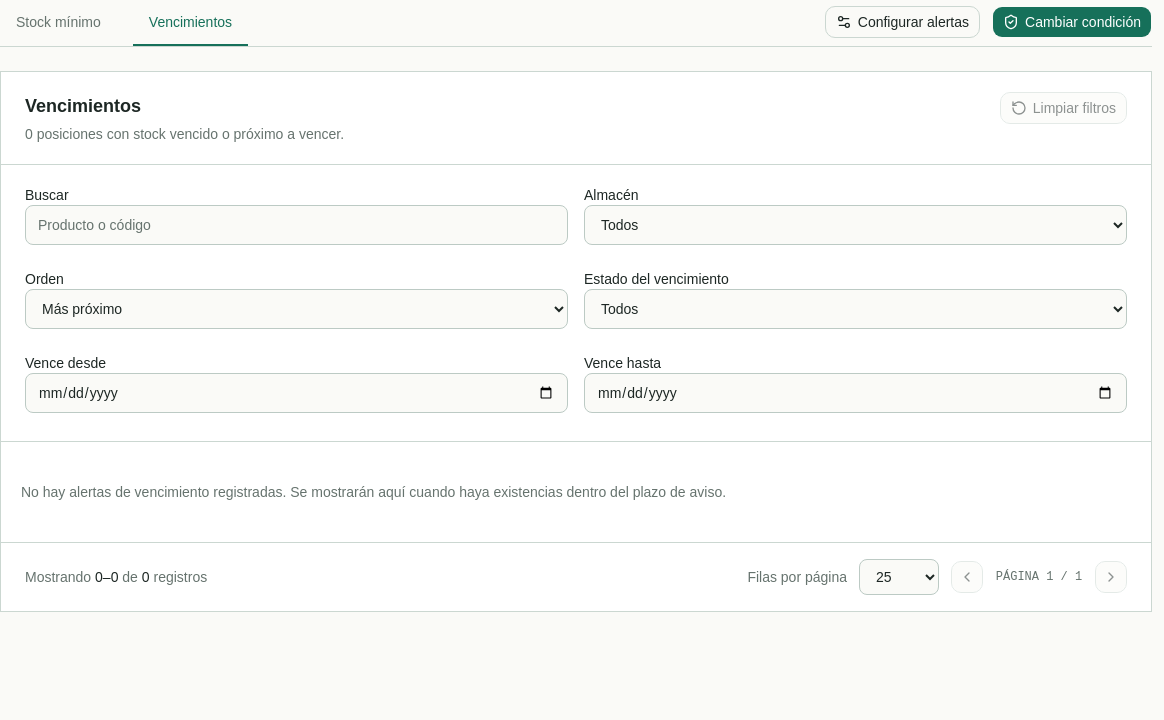
Test: PanelControlStock › restaura búsqueda, almacén, orden, fechas, paginación y estado de vencimiento
Type "paracetamol" into the search field labelled "Buscar".
click(296, 225); type("paracetamol")  # box [25,205,568,245]
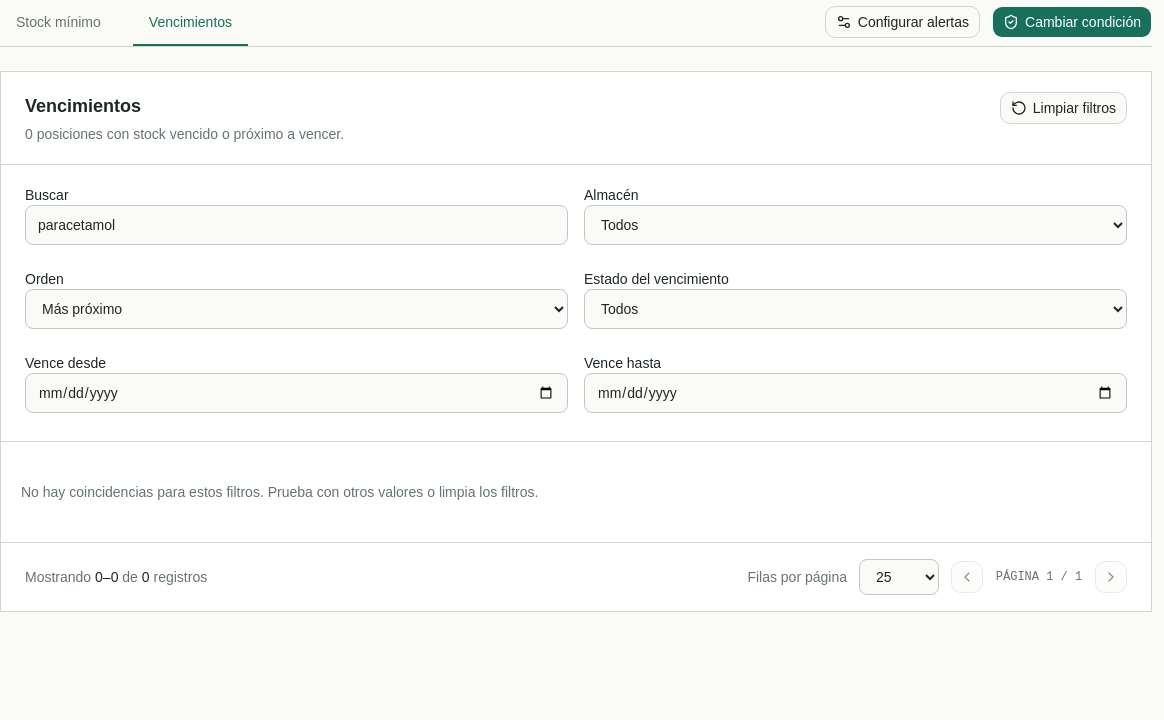
Select "Central" in the dropdown labelled "Almacén" at (856, 225), box [584,205,1127,245]
Select "Más lejano" in the dropdown labelled "Orden" at (296, 309), box [25,289,568,329]
Select "Vencido" in the dropdown labelled "Estado del vencimiento" at (856, 309), box [584,289,1127,329]
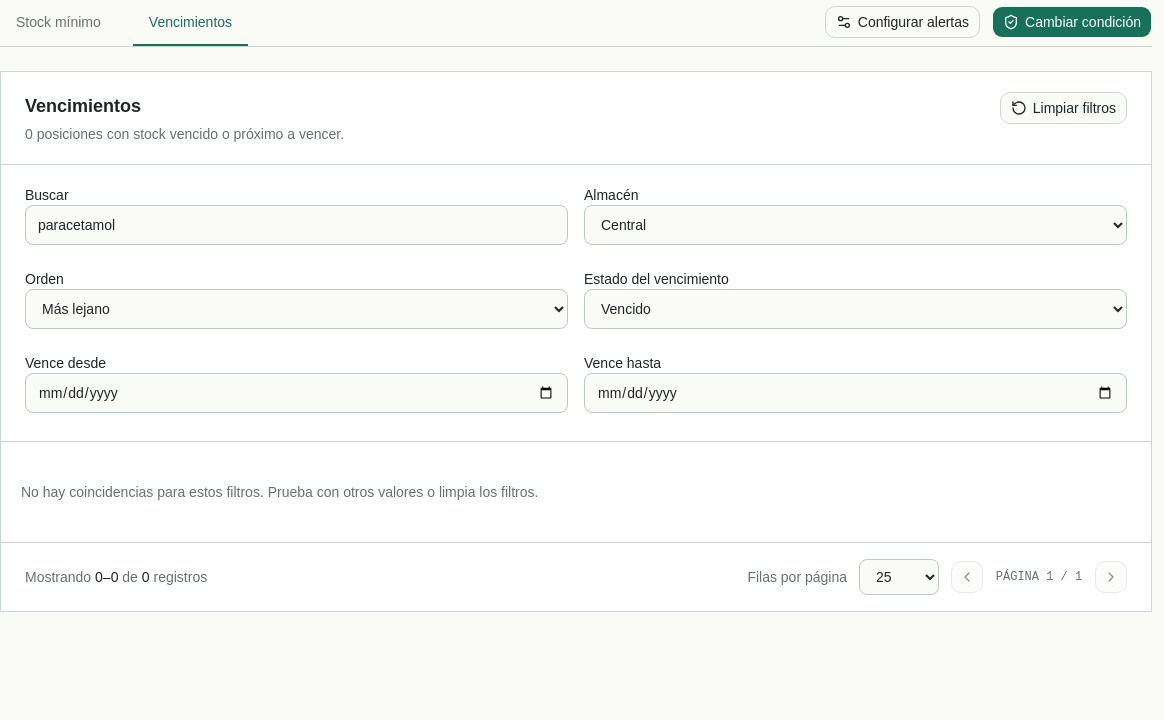
Type "2026-10-01" into the date field labelled "Vence desde".
click(296, 393); type("2026-10-01")  # box [25,373,568,413]
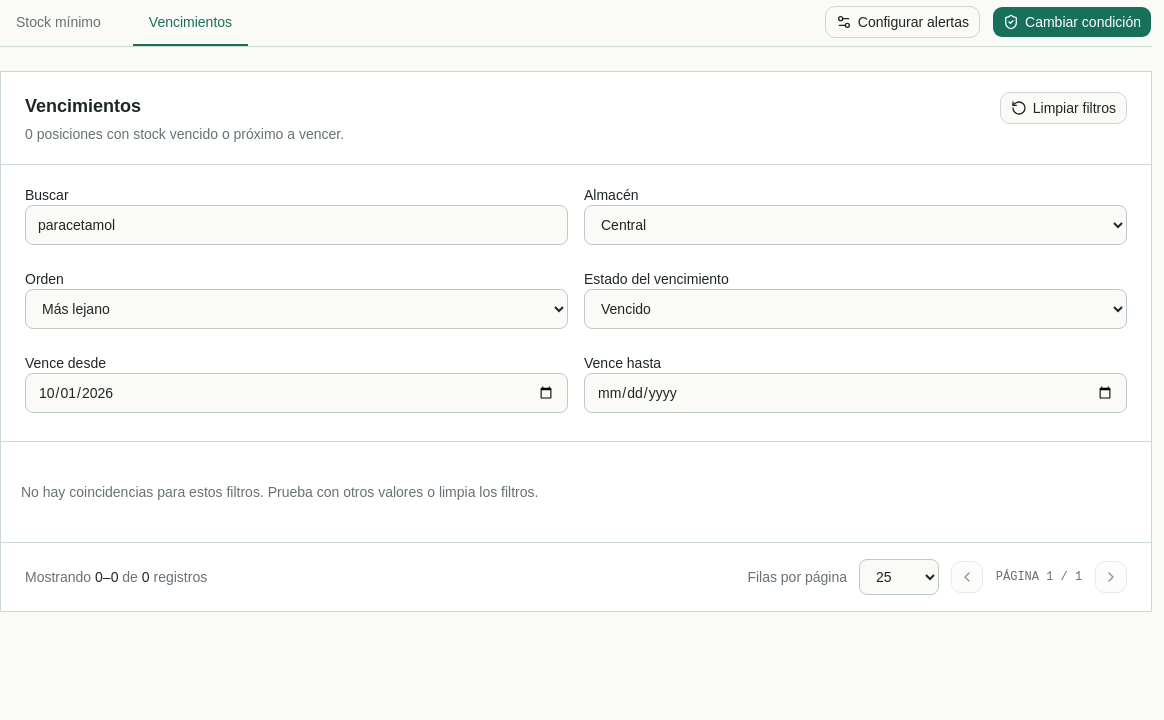
Type "2026-10-31" into the date field labelled "Vence hasta".
click(856, 393); type("2026-10-31")  # box [584,373,1127,413]
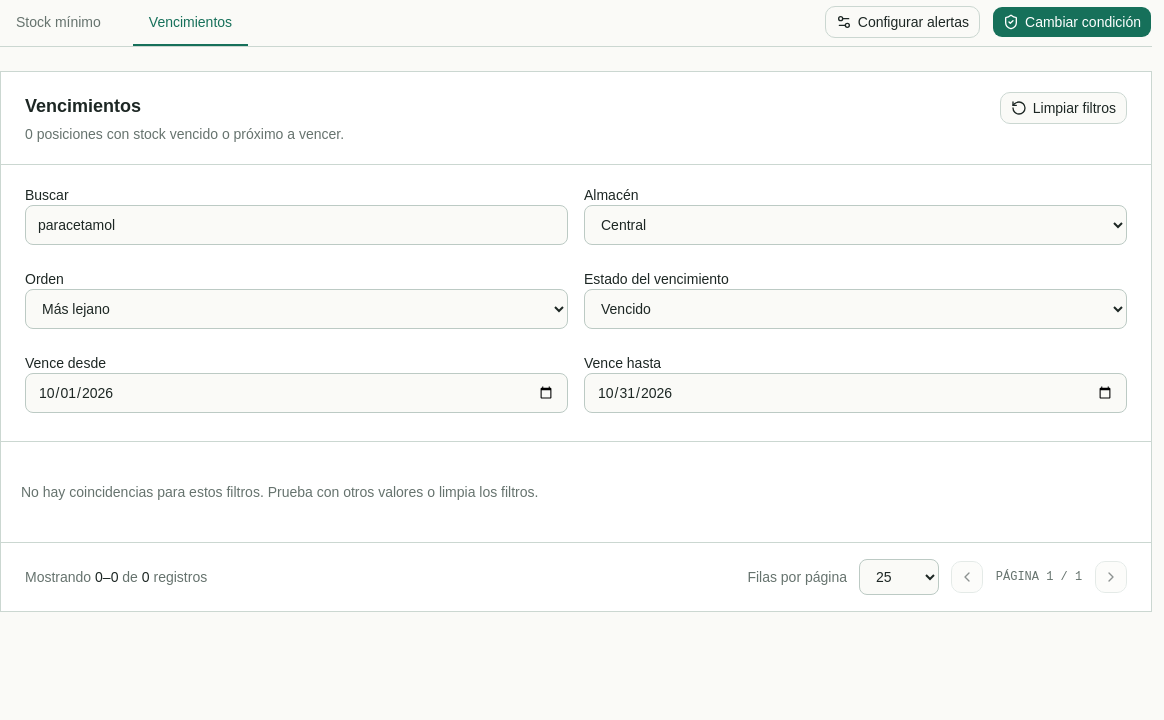
Select "50" in the dropdown named "Filas por página de vencimientos" at (899, 577), box [859,559,939,595]
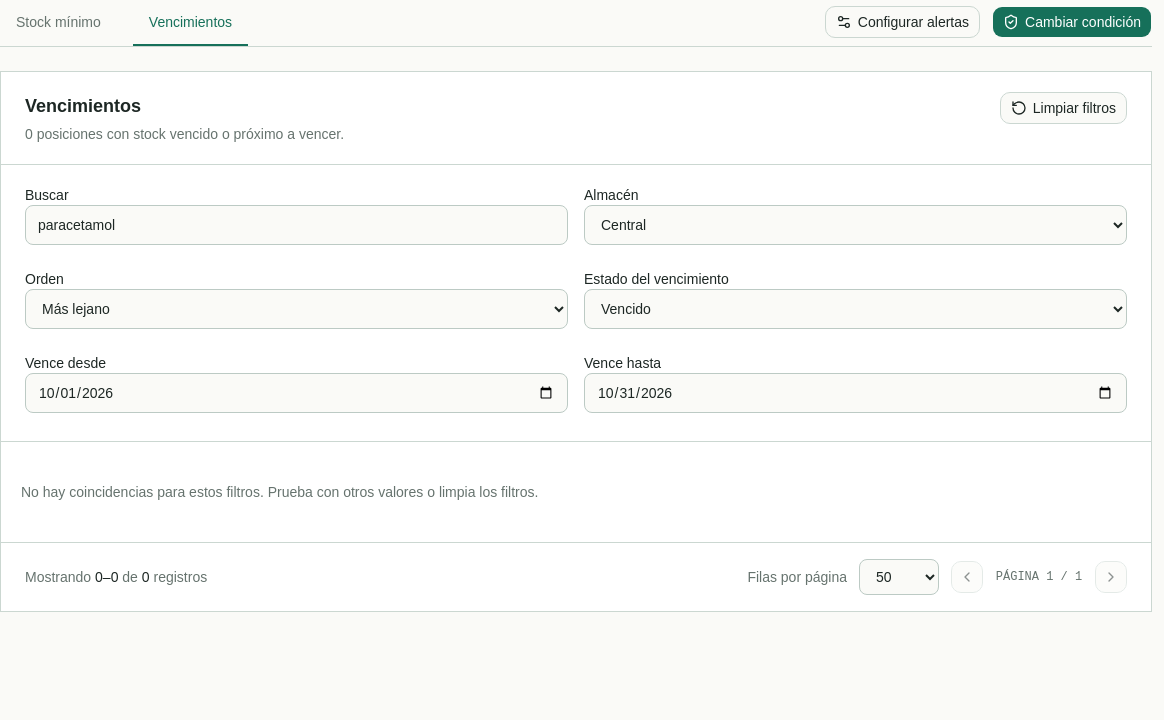
Click the button "Limpiar filtros".
click(1063, 108)  # box [1000,92,1127,124]
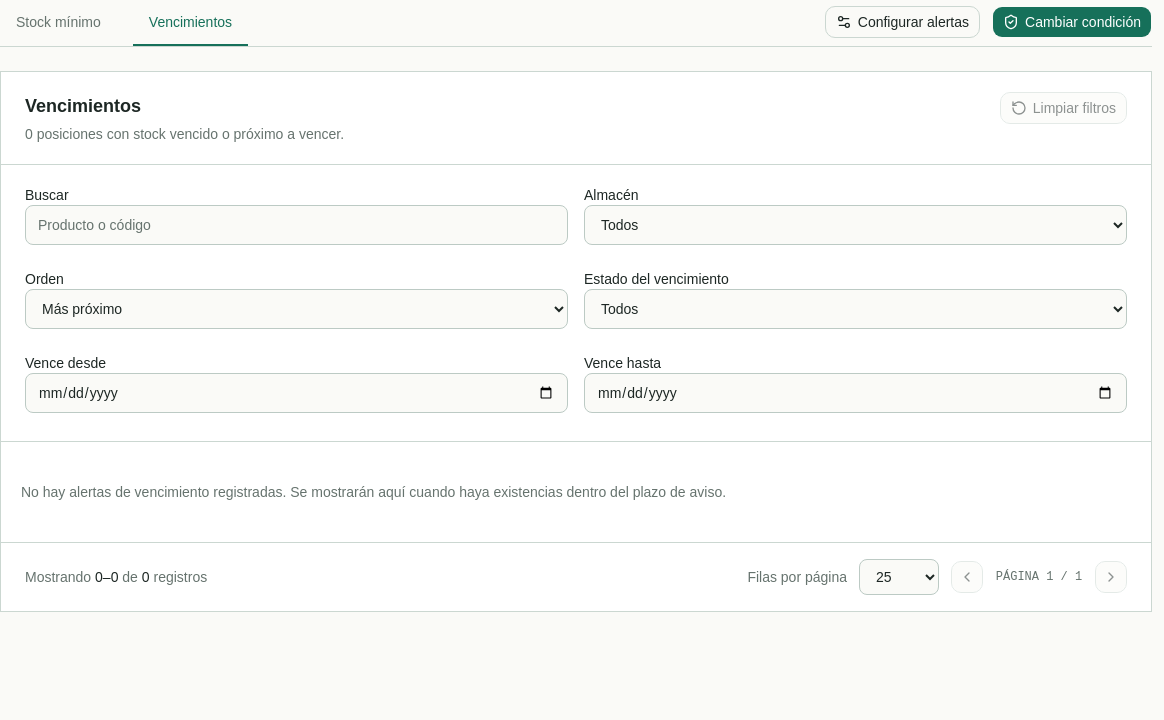
Now the button "Limpiar filtros" is disabled, box [1000,92,1127,124]
